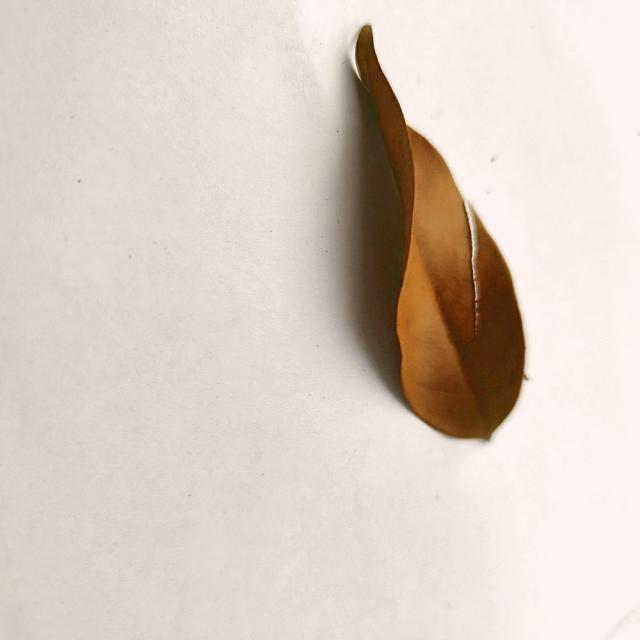Dry_Leaf-Lychee: (353, 27, 527, 443)
